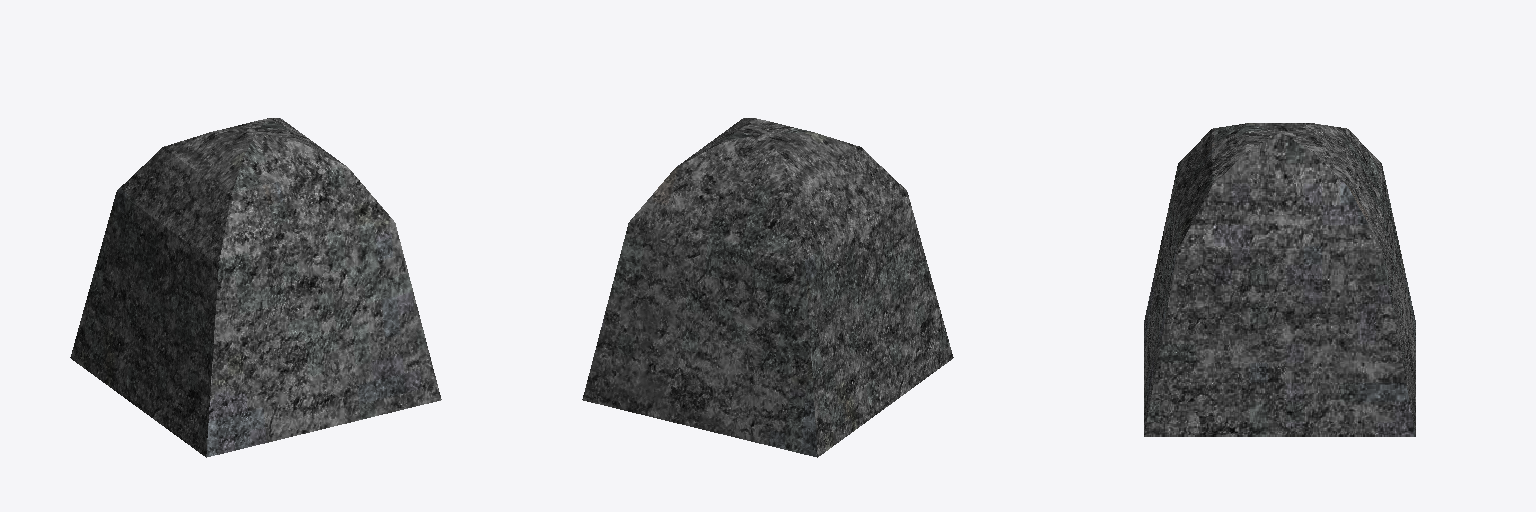
3 views of the same model, side by side, from view 1: azimuth 30°, elevation 25°; view 2: azimuth 150°, elevation 25°; view 3: azimuth 270°, elevation 25° (orthographic).
Parts seen in each view (by area): view 1: Grid_Grid.003; view 2: Grid_Grid.003; view 3: Grid_Grid.003.
Part boxes in pixels (left/top/right/bottom): Grid_Grid.003: left=70, top=118, right=441, bottom=457; Grid_Grid.003: left=582, top=118, right=953, bottom=457; Grid_Grid.003: left=1144, top=123, right=1415, bottom=436.
Size of the model in its own units: 1 by 1 by 1.
Materials: 1 (1 with a texture image).